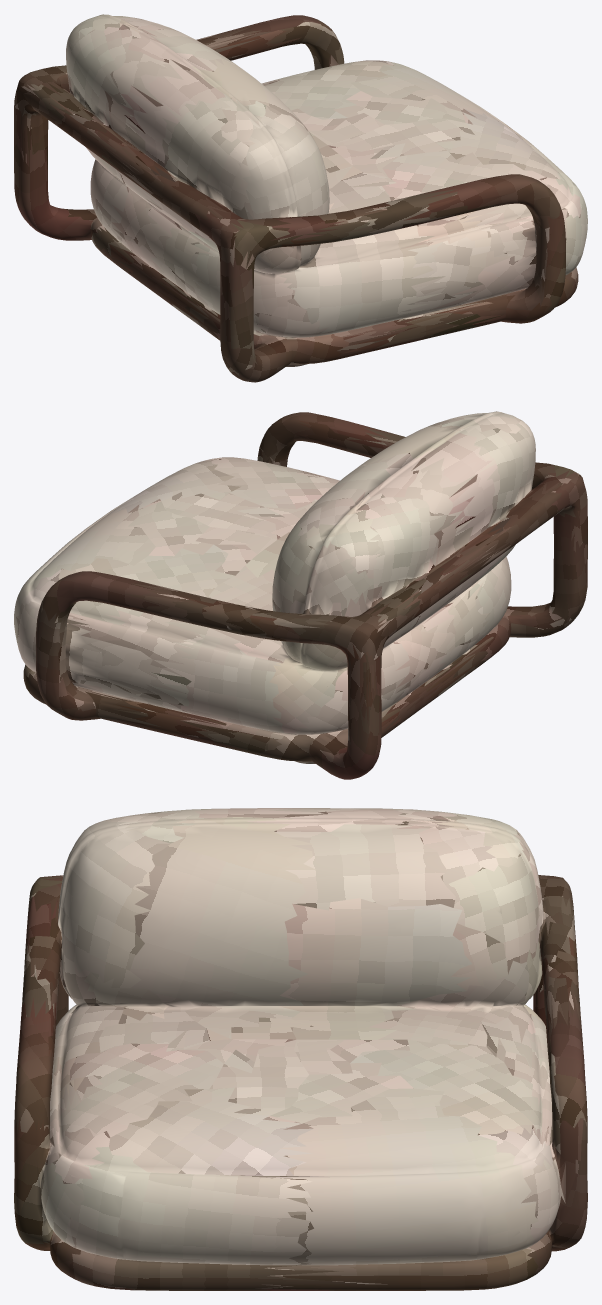
Rendered from KR_사물_s1_prop_sofa.glb.
3 views of the same model, one above another, from view 1: azimuth 30°, elevation 25°; view 2: azimuth 150°, elevation 25°; view 3: azimuth 270°, elevation 25° (orthographic). The views are drawn at different scales.
Parts seen in each view (by area): view 1: tripo_node_58ddc4a9-adf4-4016-a0a4-ab76a9974cbf; view 2: tripo_node_58ddc4a9-adf4-4016-a0a4-ab76a9974cbf; view 3: tripo_node_58ddc4a9-adf4-4016-a0a4-ab76a9974cbf.
Boxes of the visible parts, <box> form: tripo_node_58ddc4a9-adf4-4016-a0a4-ab76a9974cbf: <box>14,14,587,382</box>; tripo_node_58ddc4a9-adf4-4016-a0a4-ab76a9974cbf: <box>14,411,587,779</box>; tripo_node_58ddc4a9-adf4-4016-a0a4-ab76a9974cbf: <box>14,808,587,1290</box>.
Size of the model in its own units: 0.9856 by 0.5647 by 1.
Materials: 1 (1 with a texture image).
